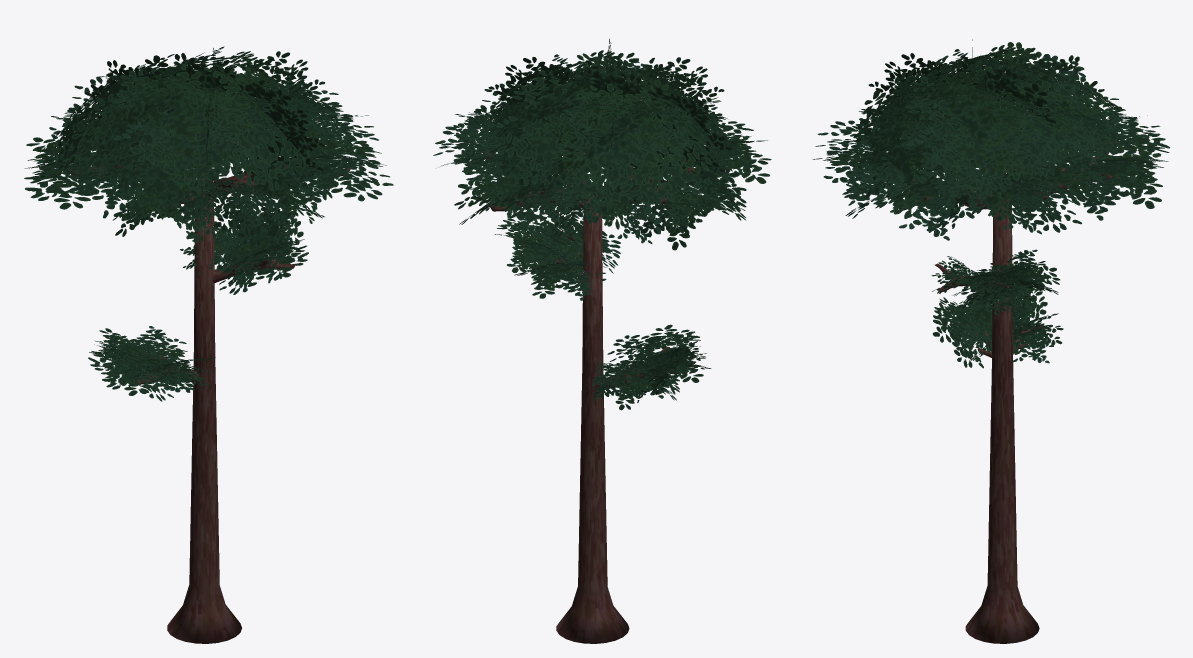
File: PRM Tree.fbx
The picture shows the model from 3 angles, left to right: view 1: azimuth 30°, elevation 25°; view 2: azimuth 150°, elevation 25°; view 3: azimuth 270°, elevation 25°; orthographic projection. The views are drawn at different scales.
Visible parts, largest first — view 1: Tree Leaves_LOD0, Tree Trunk_LOD0; view 2: Tree Leaves_LOD0, Tree Trunk_LOD0; view 3: Tree Leaves_LOD0, Tree Trunk_LOD0.
Part boxes in pixels (left/top/right/bottom): Tree Leaves_LOD0: left=24, top=46, right=393, bottom=401; Tree Trunk_LOD0: left=70, top=128, right=350, bottom=643; Tree Leaves_LOD0: left=433, top=38, right=771, bottom=410; Tree Trunk_LOD0: left=483, top=151, right=696, bottom=643; Tree Leaves_LOD0: left=812, top=39, right=1169, bottom=368; Tree Trunk_LOD0: left=895, top=139, right=1135, bottom=643.
Size of what is drawn, in the model's own units: 1239 by 2127 by 1230.
